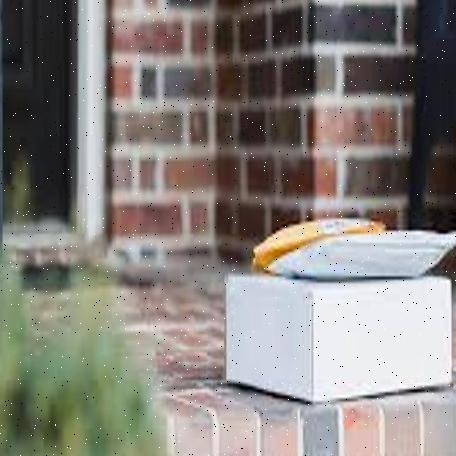Other: (224, 273, 456, 401), (265, 230, 456, 282), (253, 220, 387, 270)
